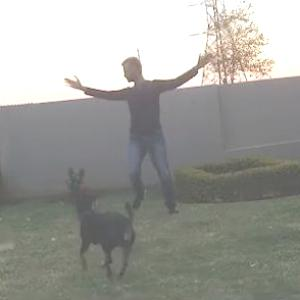takeoff: (51, 36, 215, 221)
